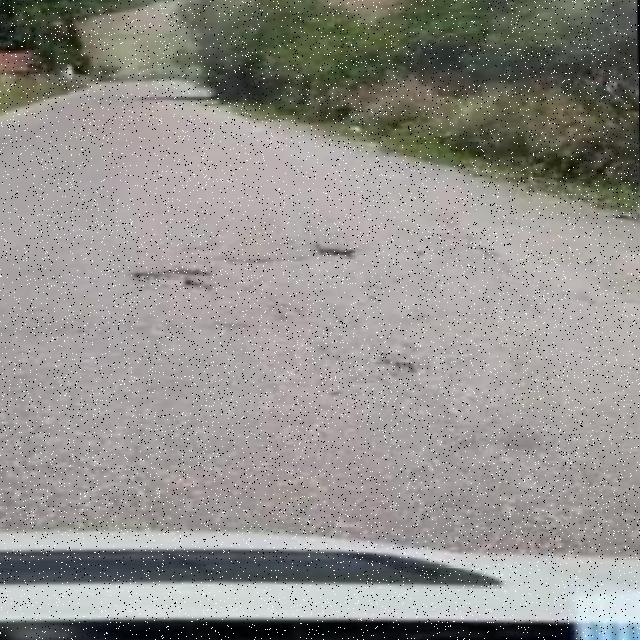pothole: (129, 269, 213, 290), (316, 246, 356, 258)
